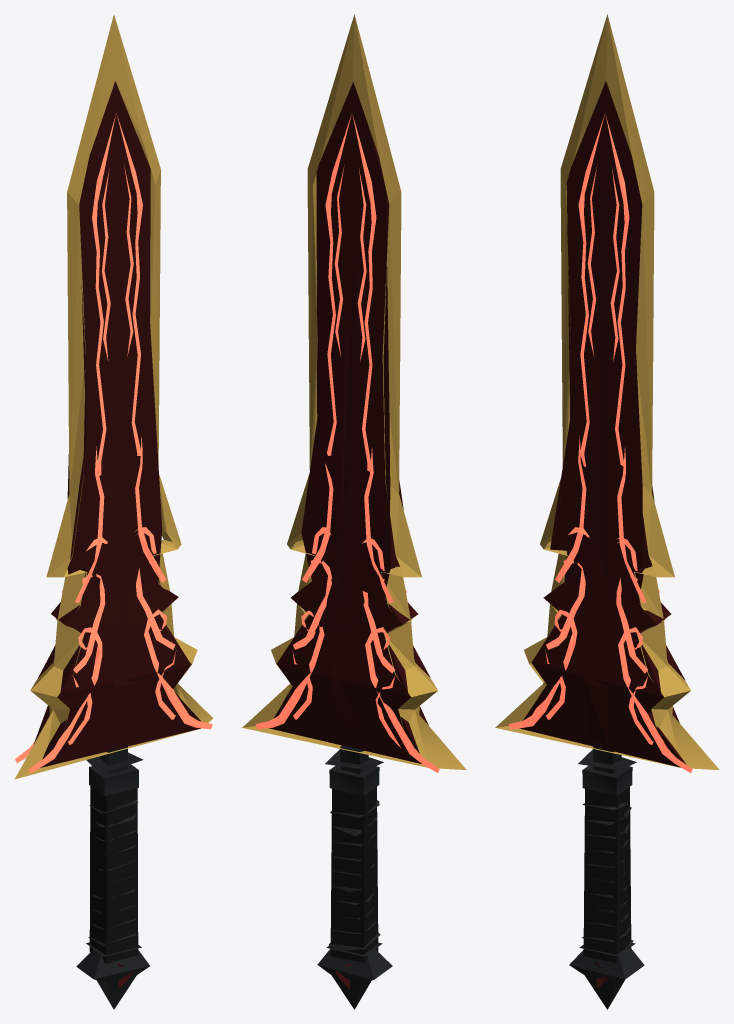
Rendered from KiemSiuNhanDo.fbx.
3 views of the same model, side by side, from view 1: azimuth 30°, elevation 25°; view 2: azimuth 150°, elevation 25°; view 3: azimuth 330°, elevation 25° (orthographic).
Visible parts, largest first — view 1: Flame engraving relief -1 -1 03_export; view 2: Flame engraving relief -1 -1 03_export; view 3: Flame engraving relief -1 -1 03_export.
Part boxes in pixels (<box>): Flame engraving relief -1 -1 03_export: <box>14,15,213,1009</box>; Flame engraving relief -1 -1 03_export: <box>242,14,466,1009</box>; Flame engraving relief -1 -1 03_export: <box>495,14,719,1009</box>.
Size of the model in its own units: 0.2719 by 1.22 by 0.0519.
